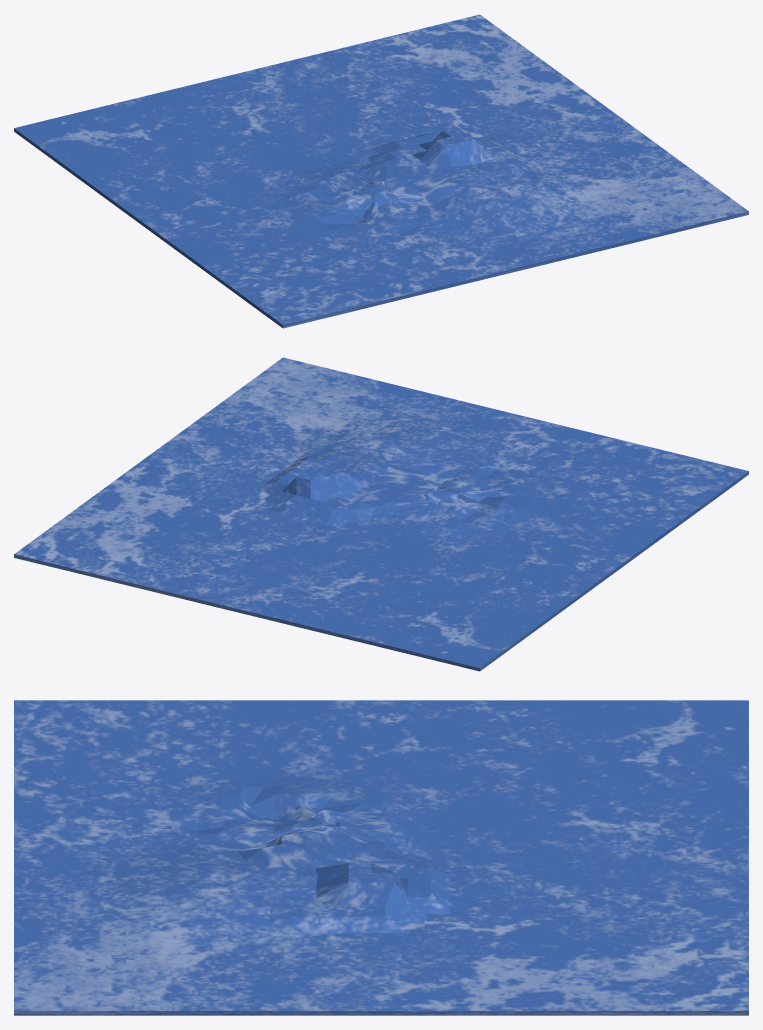
Rendered from oceano.fbx.
The picture shows the model from 3 angles, top to bottom: view 1: azimuth 30°, elevation 25°; view 2: azimuth 150°, elevation 25°; view 3: azimuth 270°, elevation 25°; orthographic projection. The views are drawn at different scales.
Parts seen in each view (by area): view 1: Oceano; view 2: Oceano; view 3: Oceano.
Part boxes in pixels (x1,y1,x2,y2): Oceano: (14,14,748,328); Oceano: (14,357,748,671); Oceano: (14,700,748,1015).
Size of the model in its own units: 8825 by 473 by 8825.
